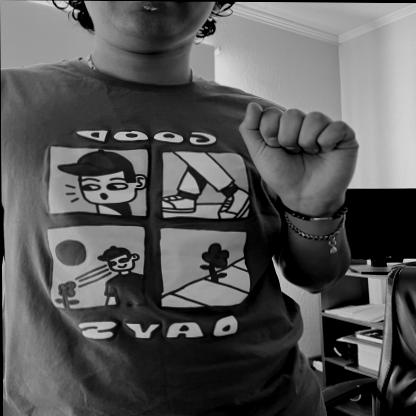A: (239, 98, 362, 204)
